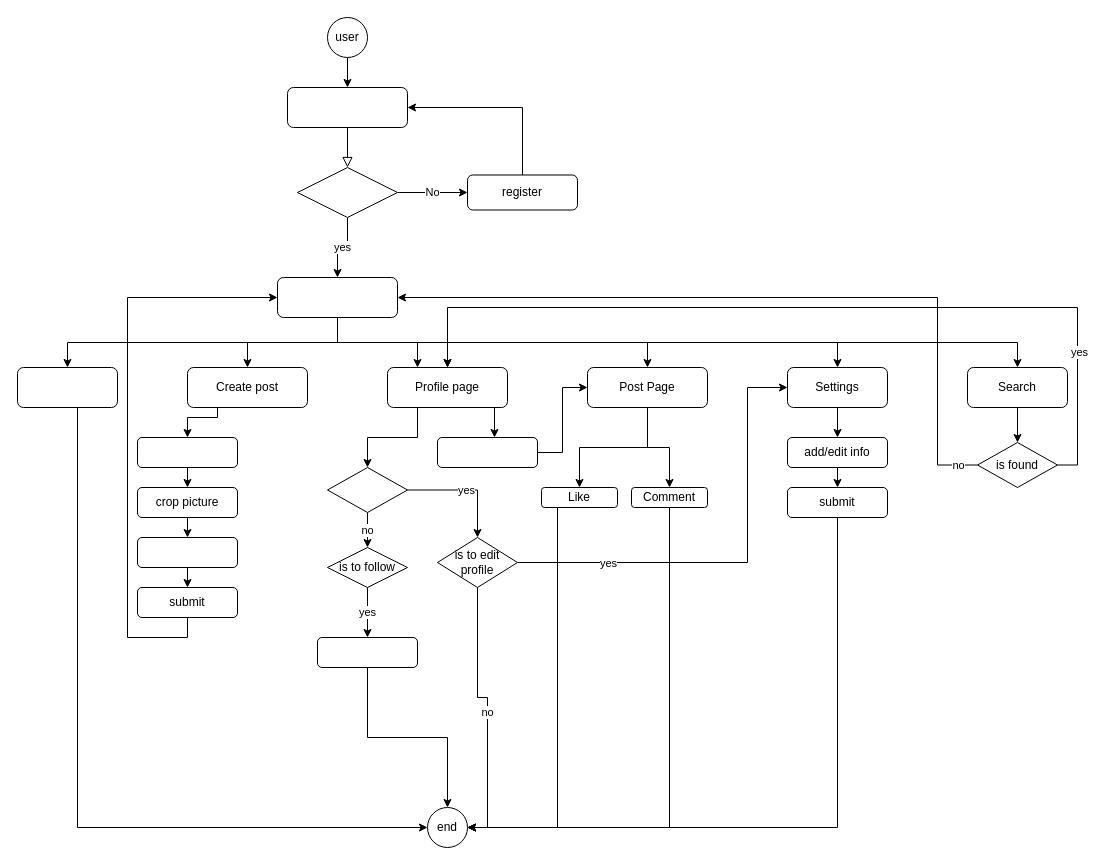
The diagram is 1105 pixels wide and 865 high, and some of its shapes have lost their labels. The centre of each missing label's shape, as x and y in pixels:
"add caption" goes at (x=187, y=552).
"click post" goes at (x=487, y=452).
"follow" goes at (x=367, y=652).
"Home page" goes at (x=337, y=297).
"is my profile" goes at (x=367, y=489).
"is valid auth data" goes at (x=347, y=192).
"load picture" goes at (x=187, y=452).
"Login" goes at (x=347, y=107).
"Logout" goes at (x=67, y=387).
